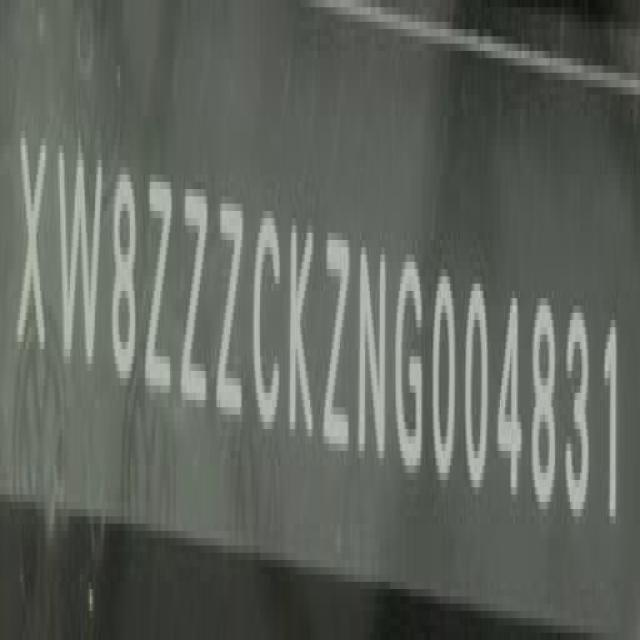0: (430, 258, 458, 490), (464, 271, 492, 498)
1: (604, 305, 622, 533)
3: (564, 295, 592, 529)
4: (499, 284, 525, 511)
8: (112, 158, 140, 392), (531, 287, 558, 517)
C: (253, 198, 284, 441)
G: (394, 243, 426, 483)
K: (289, 208, 321, 457)
N: (359, 228, 393, 478)
W: (53, 133, 103, 383)
X: (18, 115, 50, 368)
Z: (322, 216, 352, 464), (215, 180, 245, 428), (143, 163, 173, 407), (182, 170, 211, 420)
